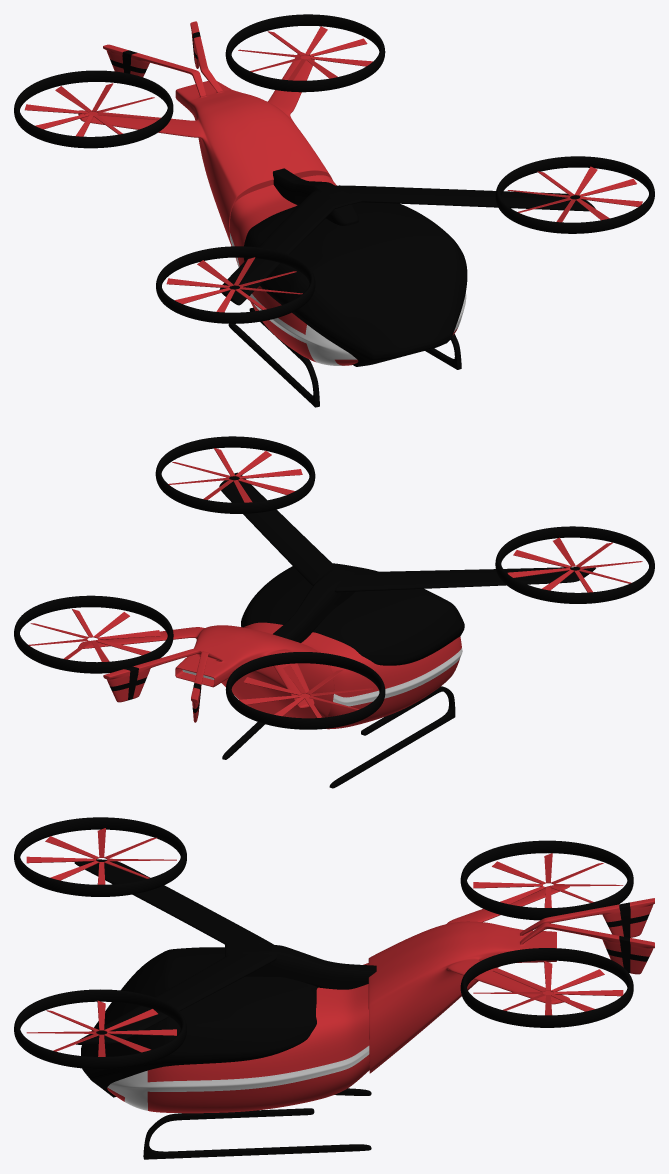
The model's file is YS_VTOL_Medical.glb.
The picture shows the model from 3 angles, top to bottom: view 1: azimuth 30°, elevation 25°; view 2: azimuth 150°, elevation 25°; view 3: azimuth 270°, elevation 25°; orthographic projection. The views are drawn at different scales.
Parts seen in each view (by area): view 1: Plane.002, Plane.001, Plane.003, Torus, Torus.001, Plane, Cube, Rotor NW, Rotor NE, Rotor SW, Rotor SE; view 2: Plane.002, Plane.001, Plane.003, Torus, Torus.001, Plane, Cube, Rotor NW, Rotor NE, Rotor SW, Rotor SE; view 3: Plane.001, Plane.002, Plane, Plane.003, Torus.001, Torus, Cube, Rotor NW, Rotor NE, Rotor SE, Rotor SW.
Part boxes in pixels (x1,y1,x2,y2): Plane.002: [244, 202, 467, 366]; Plane.001: [78, 21, 332, 245]; Plane.003: [219, 168, 595, 305]; Torus: [14, 14, 385, 148]; Torus.001: [156, 156, 654, 323]; Plane: [229, 175, 466, 365]; Cube: [228, 307, 461, 407]; Rotor NW: [507, 166, 642, 222]; Rotor NE: [166, 257, 302, 312]; Rotor SW: [238, 26, 372, 80]; Rotor SE: [24, 83, 158, 136]; Plane.002: [241, 563, 464, 665]; Plane.001: [78, 625, 334, 722]; Plane.003: [219, 472, 595, 642]; Torus: [14, 595, 385, 729]; Torus.001: [155, 436, 654, 603]; Plane: [243, 622, 462, 729]; Cube: [222, 686, 455, 788]; Rotor NW: [168, 448, 302, 502]; Rotor NE: [507, 537, 642, 592]; Rotor SW: [29, 609, 160, 661]; Rotor SE: [239, 665, 372, 717]; Plane.001: [368, 885, 654, 1073]; Plane.002: [81, 947, 317, 1097]; Plane: [107, 963, 369, 1113]; Plane.003: [74, 859, 376, 1045]; Torus.001: [14, 817, 186, 1069]; Torus: [460, 840, 633, 1027]; Cube: [143, 1088, 371, 1159]; Rotor NW: [26, 1000, 176, 1056]; Rotor NE: [26, 828, 176, 884]; Rotor SE: [473, 853, 623, 907]; Rotor SW: [473, 961, 623, 1015].
Size of the model in its own units: 9.34 by 3.48 by 10.
